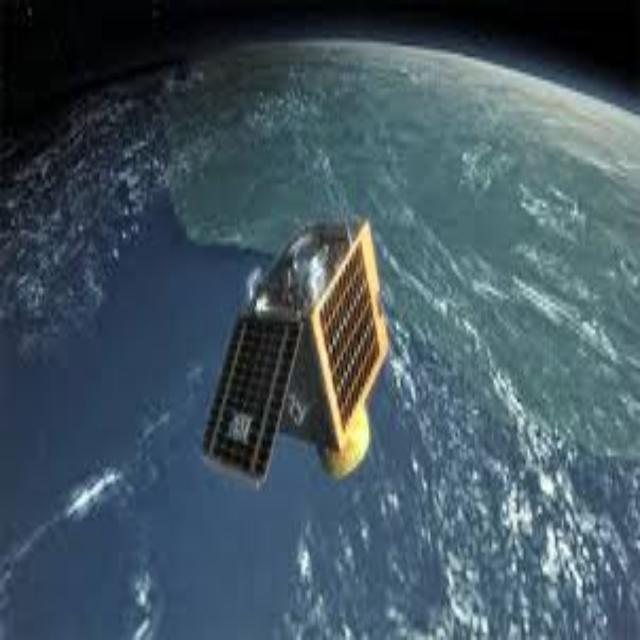medium_debris: (206, 214, 410, 507)
